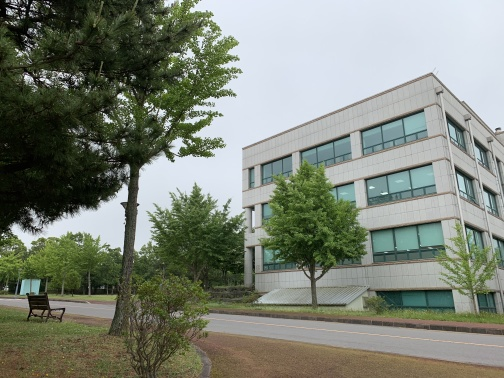Second Library: (242, 85, 502, 321)
